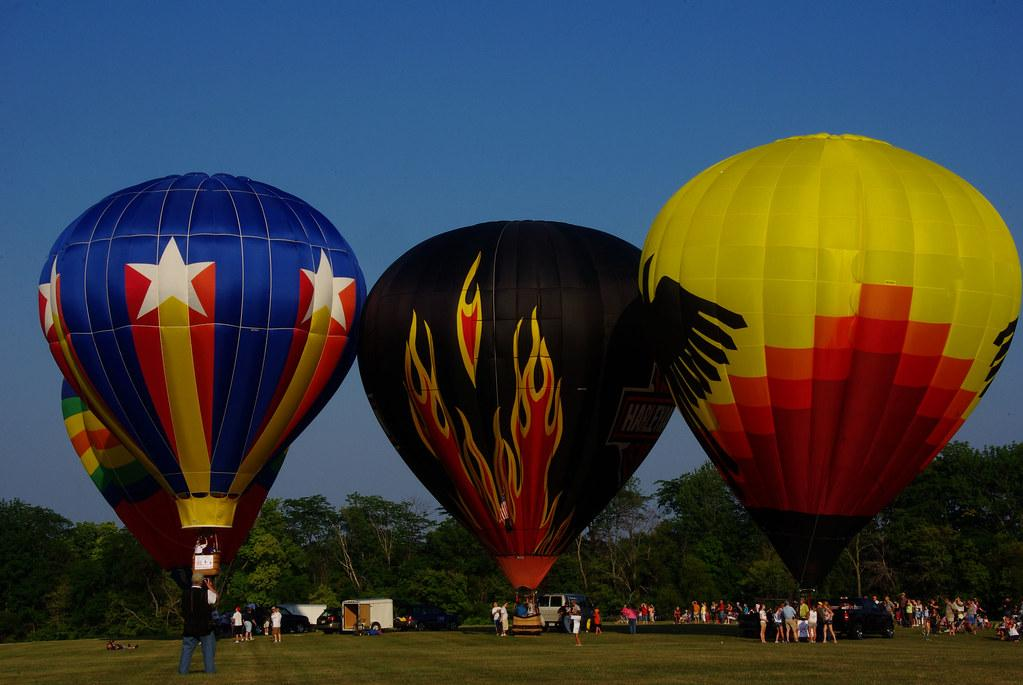balloon: (637, 131, 1021, 599), (37, 169, 368, 582), (359, 224, 688, 633)
